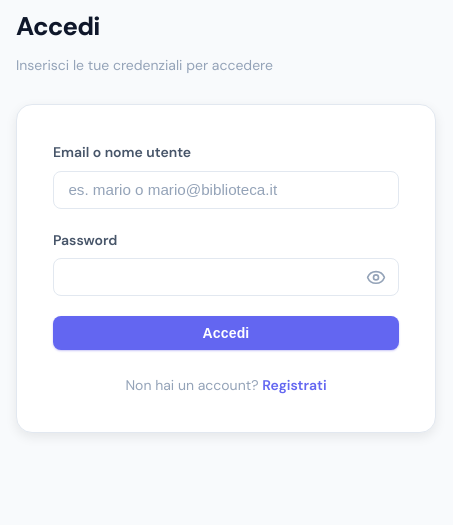
Scenario: Login › should show validation error when fields are empty
What coordinates should you click on to do the following:
click the button "Accedi"
I would click on:
 (226, 333)
Its box is [53,316,399,350].
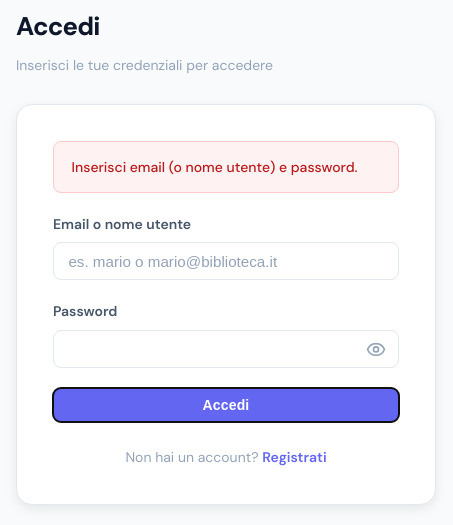
Expected: the message "Inserisci email (o nome utente) e password." is shown, [53,141,399,192]
